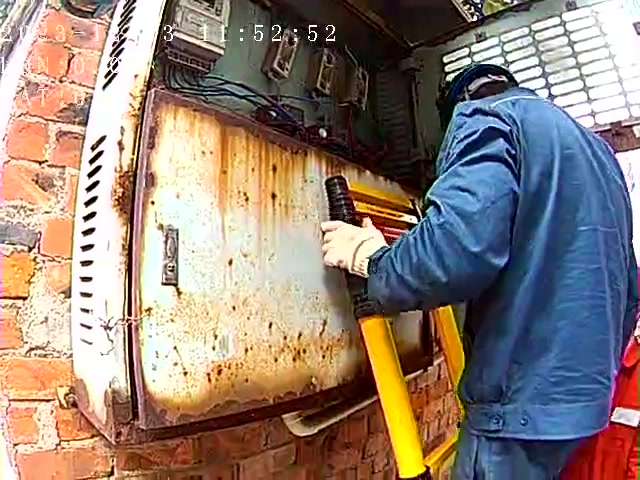halt: (434, 60, 518, 127)
person: (316, 57, 640, 480)
upsuit: (370, 84, 640, 450)
wglove: (318, 215, 389, 277)
